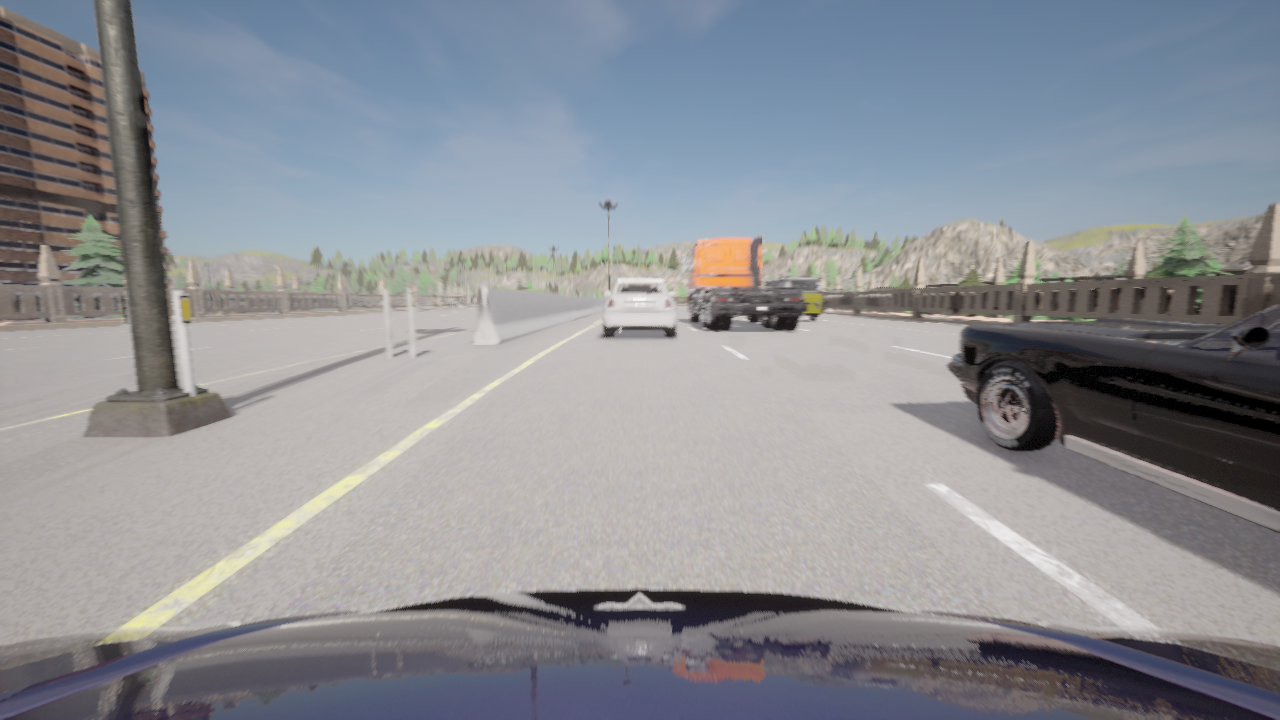cyclist: (0, 588, 1279, 719), (948, 303, 1279, 533), (682, 236, 806, 330), (602, 279, 677, 338), (765, 277, 822, 321)
